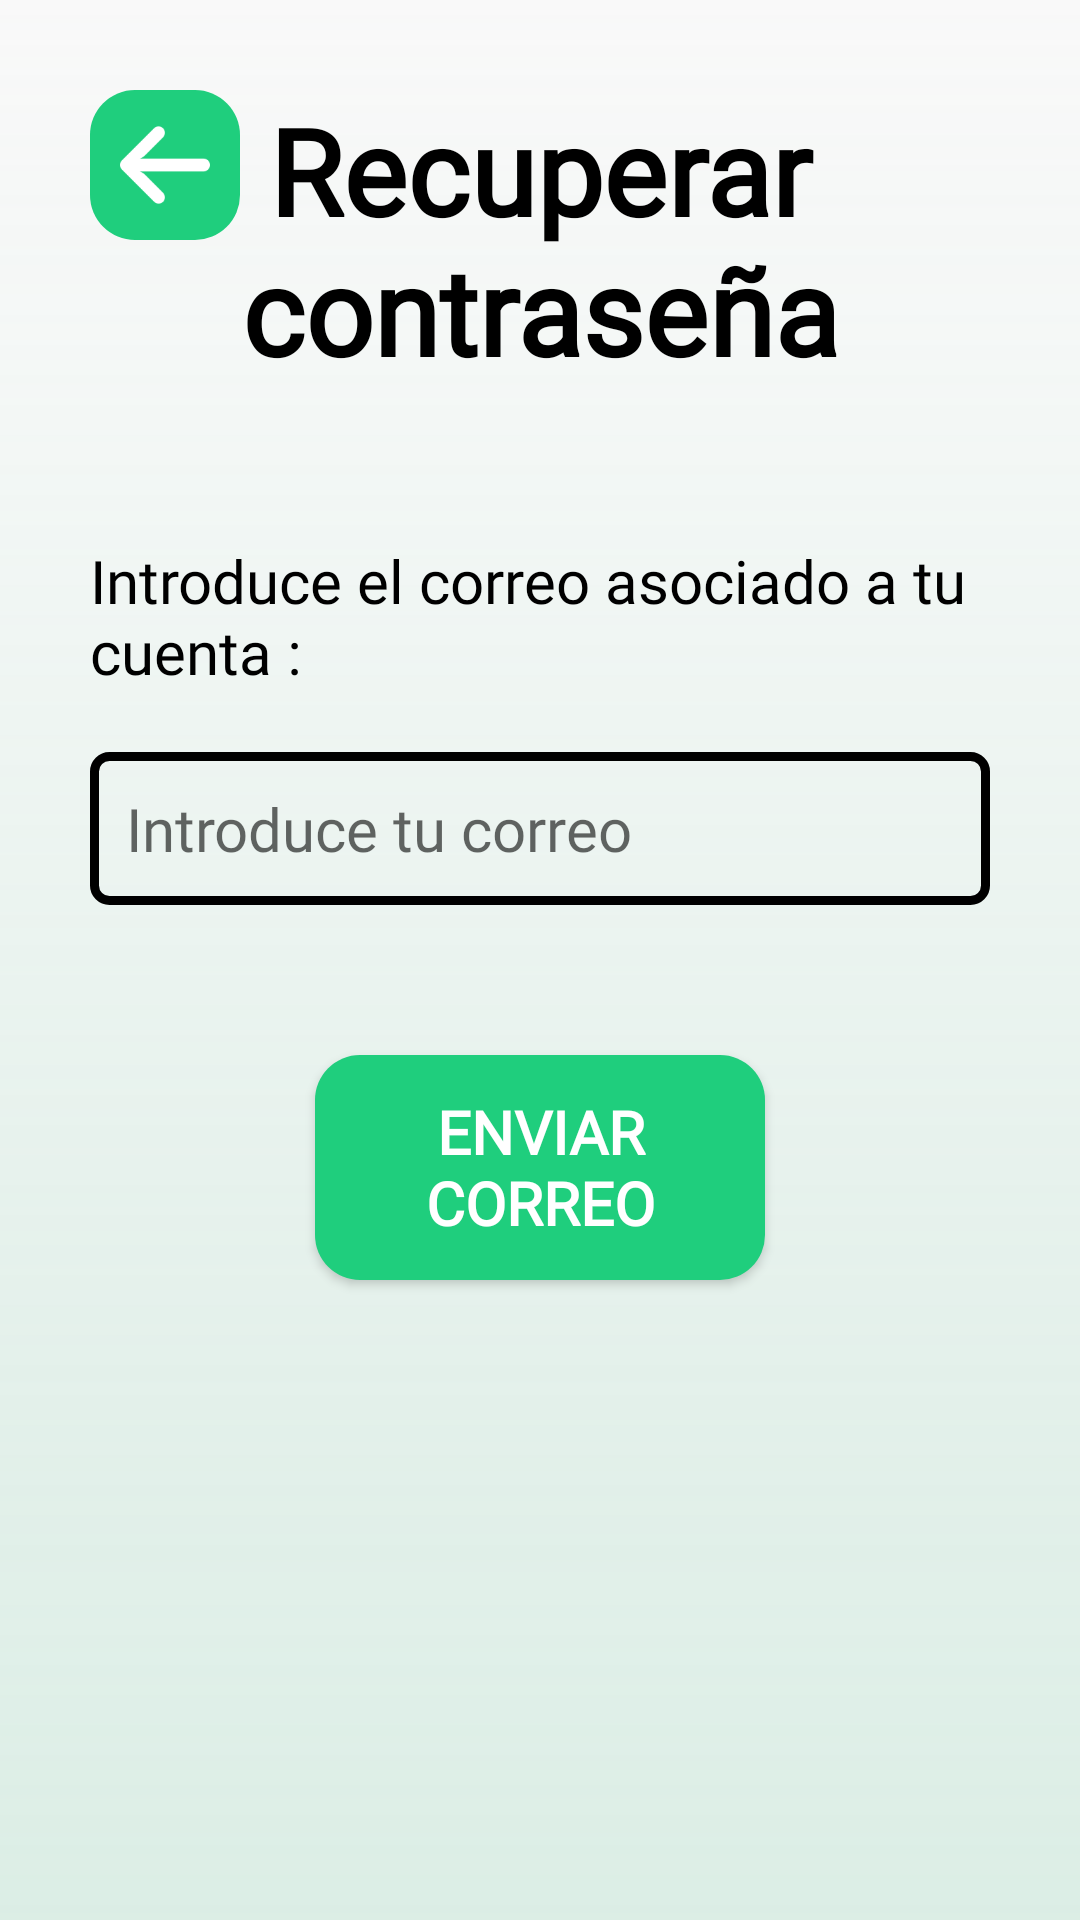

Locate icon controls on the screen. Image size 1080 x 1920, boxes as bbox=[x1, y1, x2, y2].
flecha izquierda: bbox=[90, 90, 240, 240]
